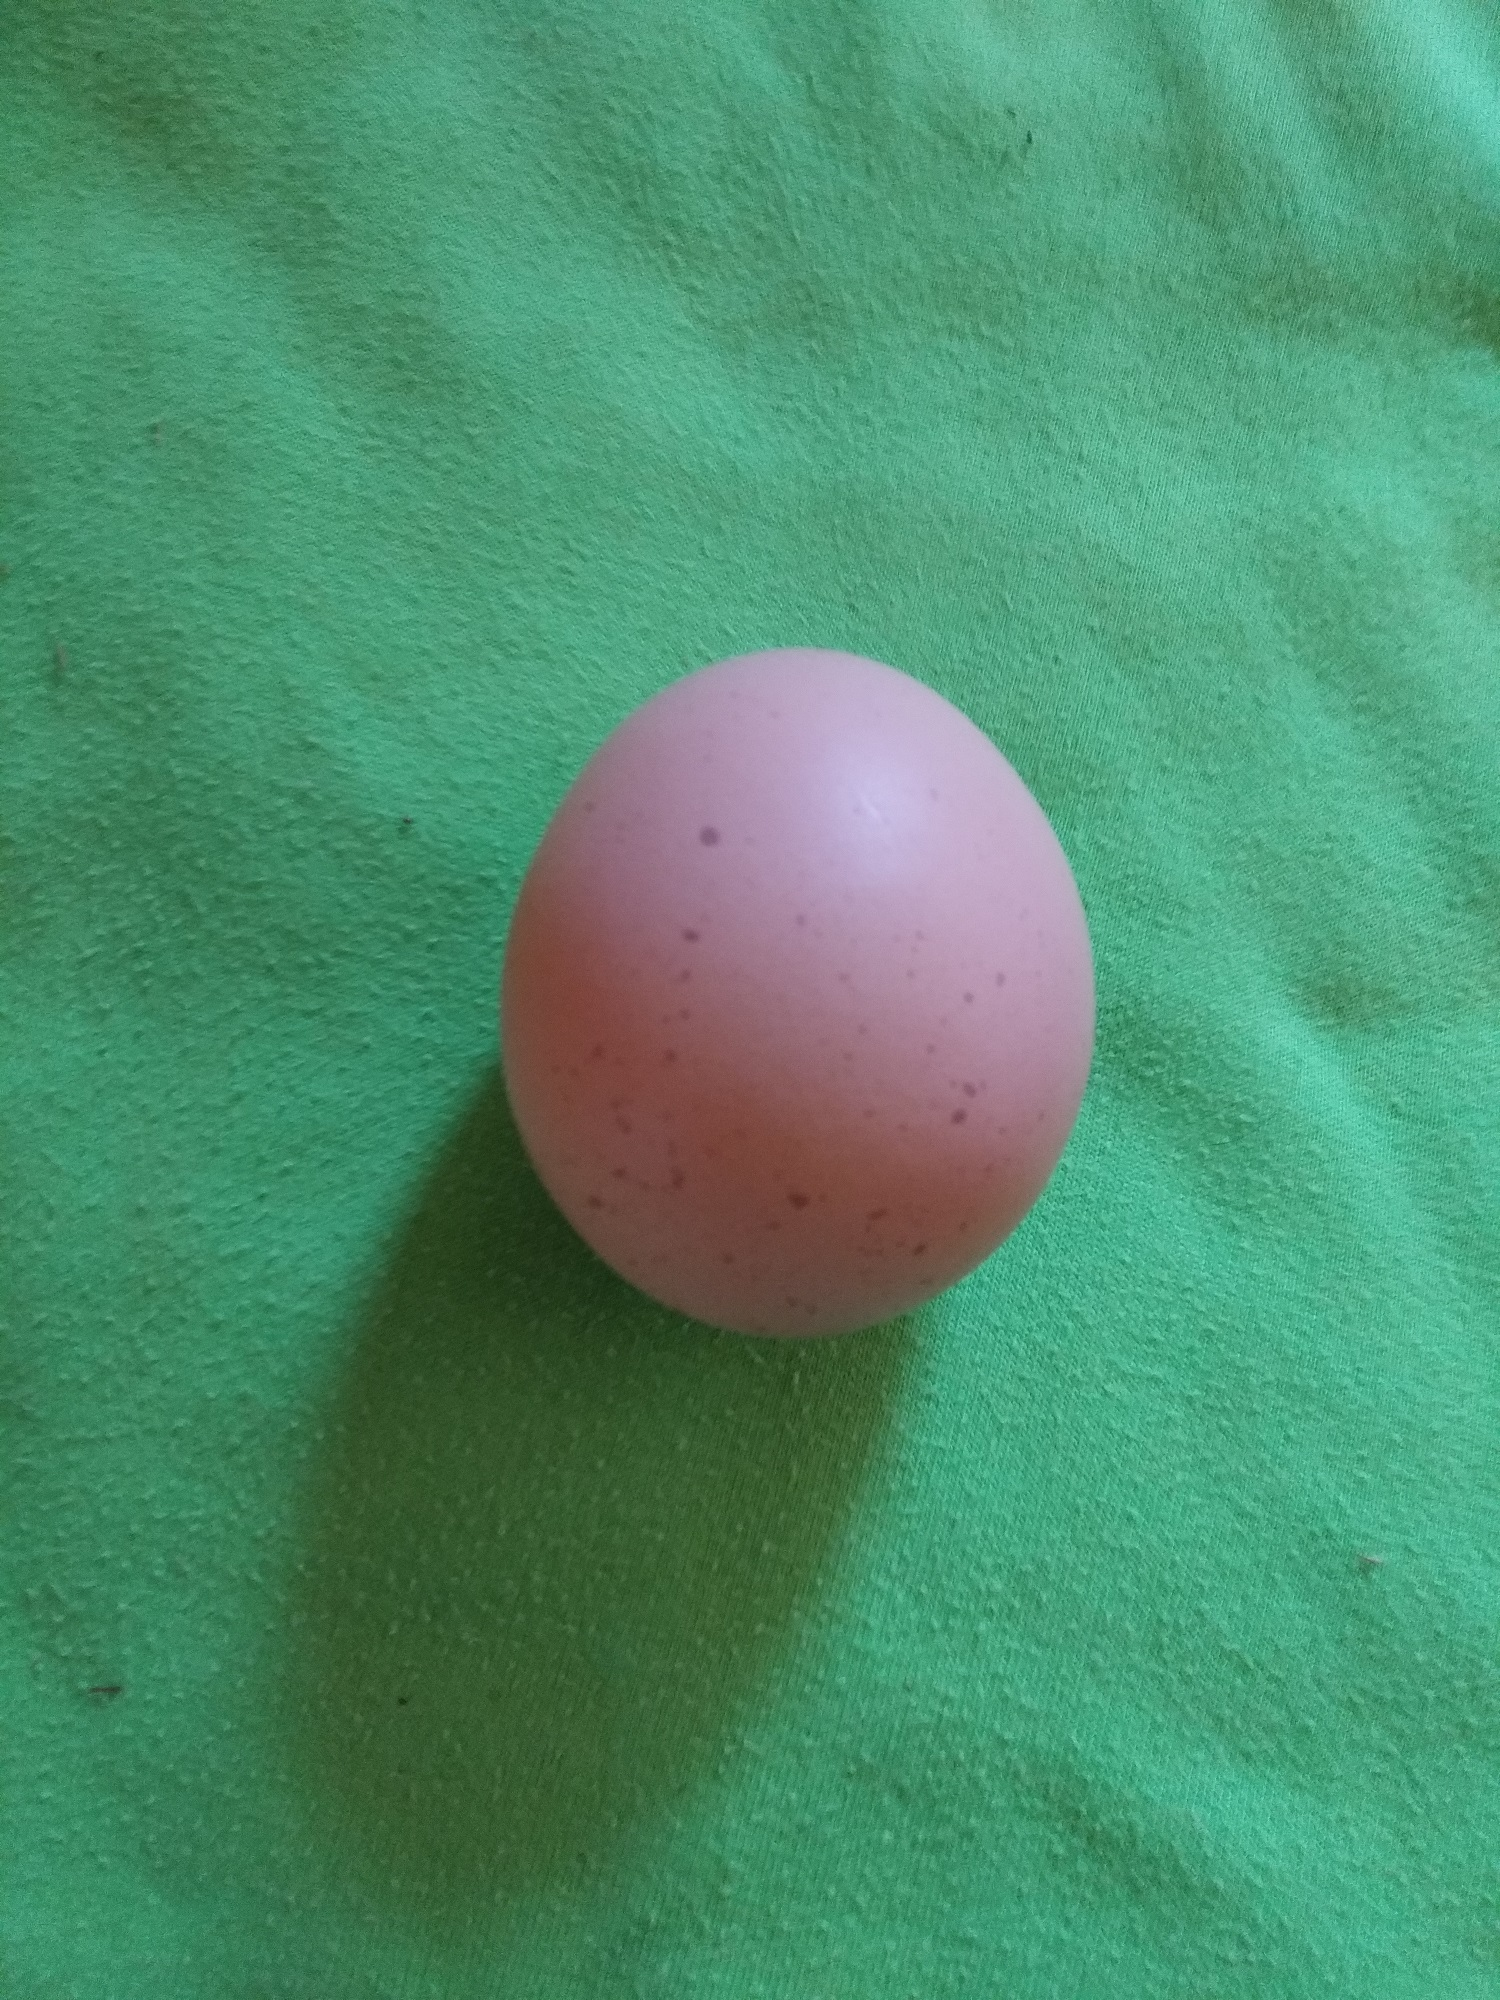Female: (493, 644, 1101, 1353)
